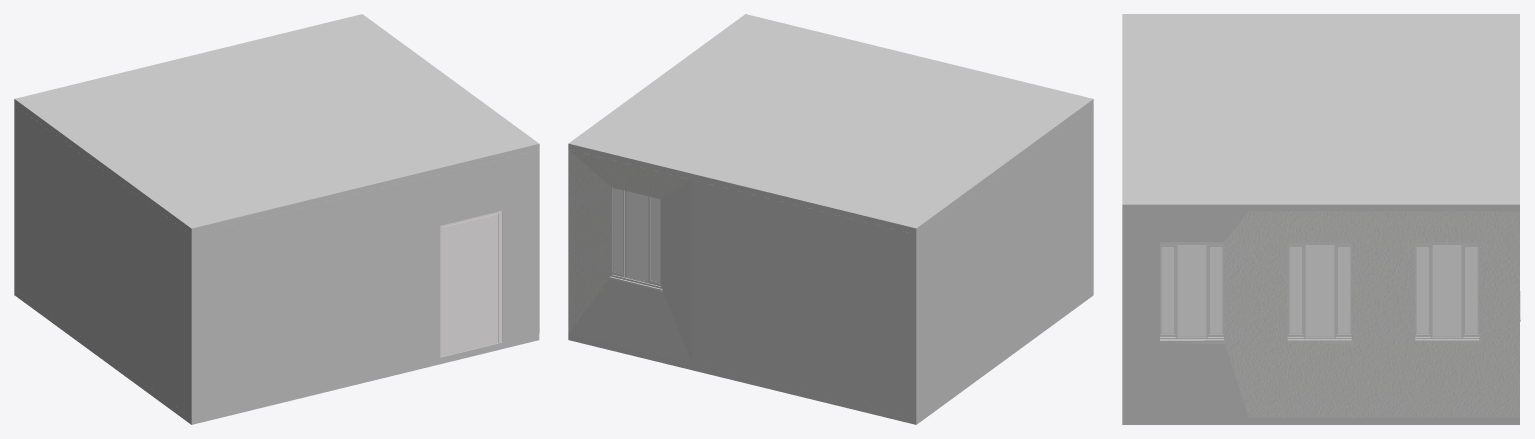
The model's file is FloorPlan430_physics.fbx.
The picture shows the model from 3 angles, left to right: view 1: azimuth 30°, elevation 25°; view 2: azimuth 150°, elevation 25°; view 3: azimuth 270°, elevation 25°; orthographic projection. The views are drawn at different scales.
Parts seen in each view (by area): view 1: FP430:Walls, FP430:Ceiling, FP430:Door.002, FP430:Floor, FP430:DoorFrame.002; view 2: FP430:Walls, FP430:Ceiling, FP430:Floor, FP430:polySurface127, FP430:polySurface133; view 3: FP430:Ceiling, FP430:Walls, FP430:polySurface134, FP430:polySurface141, FP430:polySurface152, FP430:Floor, FP430:polySurface147, FP430:polySurface140, FP430:polySurface154.
Part boxes in pixels (x1,y1,x2,y2): FP430:Walls: (14,105,539,418); FP430:Ceiling: (14,14,539,234); FP430:Door.002: (443,214,497,356); FP430:Floor: (14,289,539,424); FP430:DoorFrame.002: (440,210,502,357); FP430:Walls: (568,105,1093,418); FP430:Ceiling: (568,14,1093,234); FP430:Floor: (568,289,1093,424); FP430:polySurface127: (613,188,660,282); FP430:polySurface133: (609,187,662,291); FP430:Ceiling: (1122,14,1519,211); FP430:Walls: (1122,211,1519,417); FP430:polySurface134: (1416,245,1477,336); FP430:polySurface141: (1289,245,1350,336); FP430:polySurface152: (1161,245,1222,336); FP430:Floor: (1122,417,1519,424); FP430:polySurface147: (1287,242,1353,343); FP430:polySurface140: (1415,242,1480,343); FP430:polySurface154: (1160,242,1225,343).
Size of the model in its own units: 583 by 315 by 515.
